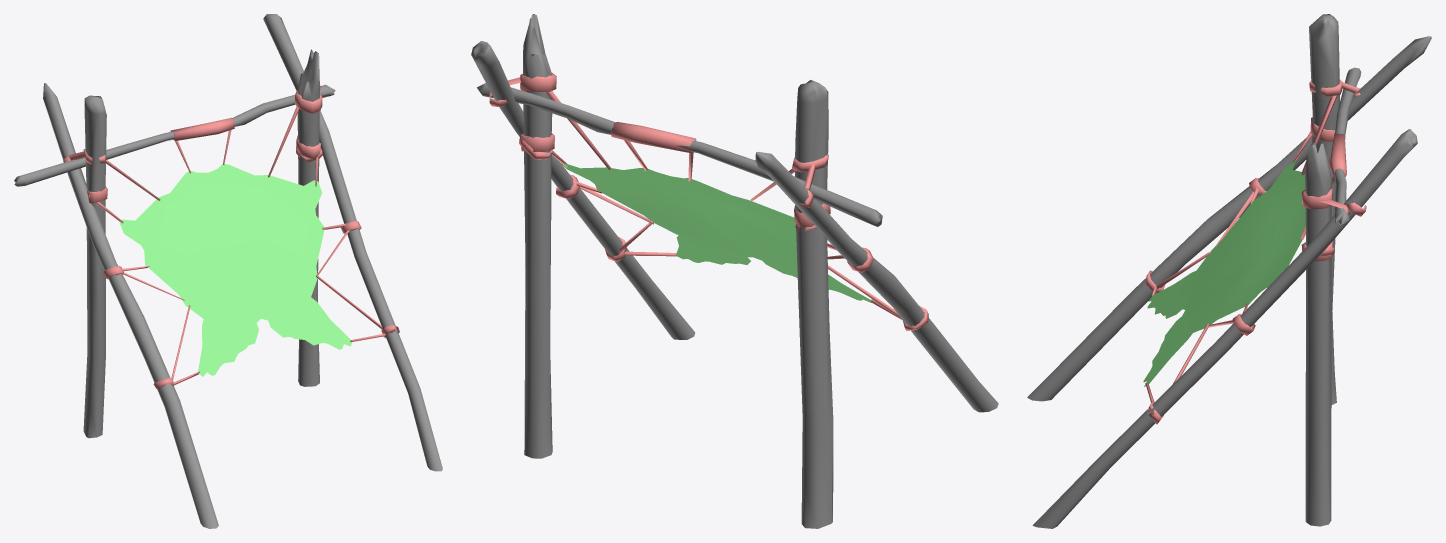
File: tanning_generic_village_C.gltf
The picture shows the model from 3 angles, left to right: view 1: azimuth 30°, elevation 25°; view 2: azimuth 150°, elevation 25°; view 3: azimuth 270°, elevation 25°; orthographic projection. The views are drawn at different scales.
Parts seen in each view (by area): view 1: tanning_generic_village_C; view 2: tanning_generic_village_C; view 3: tanning_generic_village_C.
Boxes of the visible parts, x1,y1,x2,y2 form: tanning_generic_village_C: (14,14,442,528); tanning_generic_village_C: (471,14,998,528); tanning_generic_village_C: (1027,14,1431,528).
Size of the model in its own units: 2.91 by 3.01 by 2.82.
